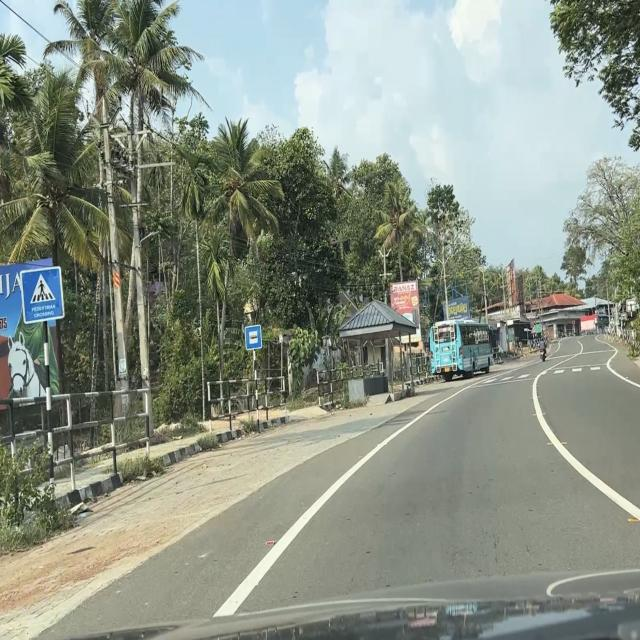INFORMATION: (245, 324, 262, 350)
PEDESTRIAN_CROSSING: (20, 266, 66, 324)
